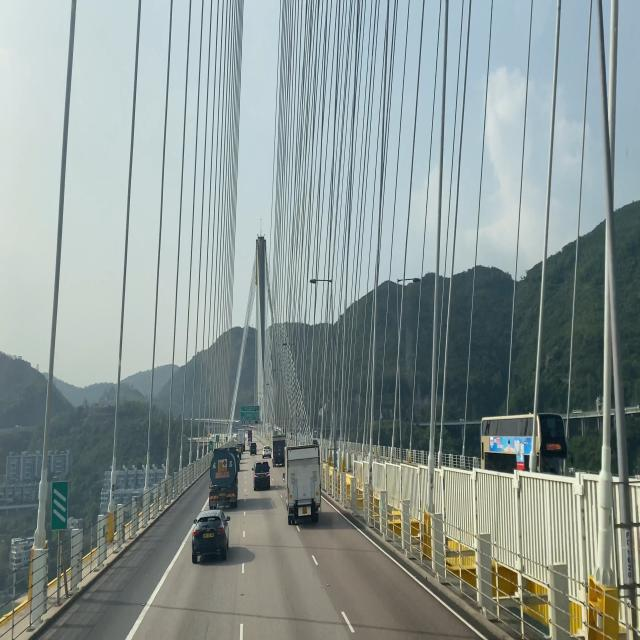Car: (283, 446, 321, 530), (189, 508, 232, 563), (208, 446, 242, 510), (251, 457, 272, 494), (270, 433, 288, 468)
